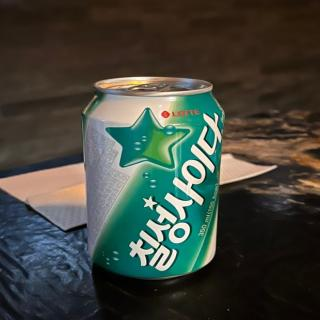cocacola: (79, 72, 228, 280)
